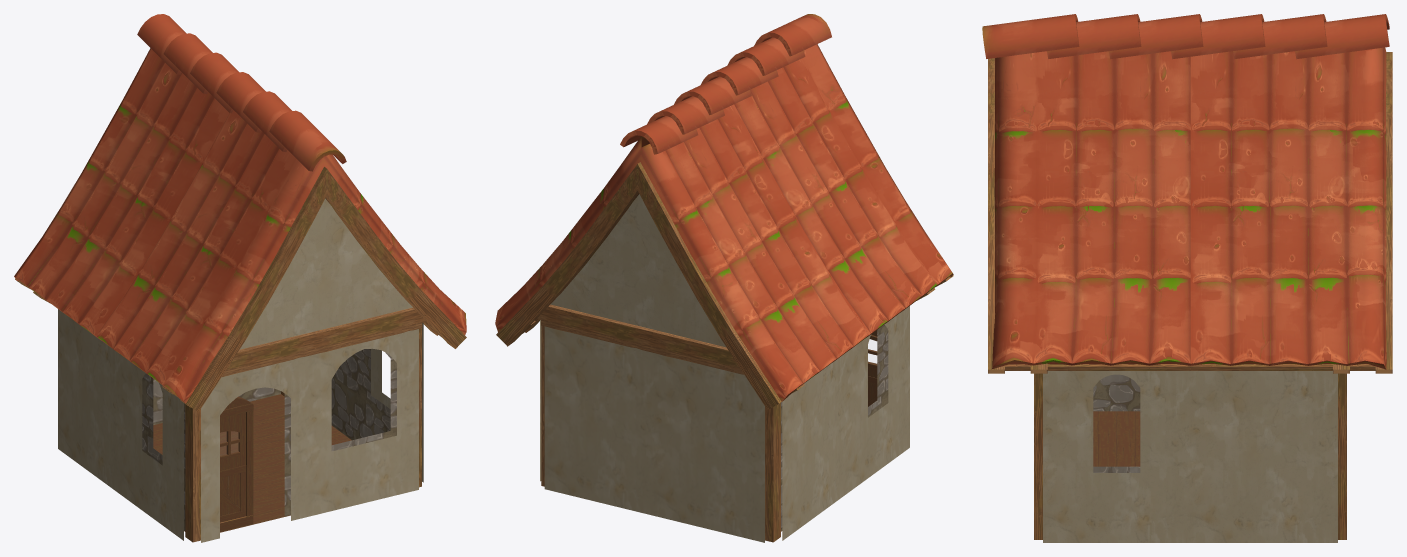
The picture shows the model from 3 angles, left to right: view 1: azimuth 30°, elevation 25°; view 2: azimuth 150°, elevation 25°; view 3: azimuth 270°, elevation 25°; orthographic projection. The views are drawn at different scales.
Visible parts, largest first — view 1: Roof_RoundTiles_4x4, Wall_UnevenBrick_Window_Wide_Round, Wall_UnevenBrick_Door_Round, Floor_WoodDark; view 2: Roof_RoundTiles_4x4, Wall_UnevenBrick_Door_Round, Wall_UnevenBrick_Window_Wide_Round, Floor_WoodDark; view 3: Roof_RoundTiles_4x4, Wall_UnevenBrick_Window_Wide_Round, Wall_UnevenBrick_Door_Round, Floor_WoodDark.
Boxes of the visible parts, <box> form: Roof_RoundTiles_4x4: <box>14,14,466,403</box>; Wall_UnevenBrick_Window_Wide_Round: <box>15,167,466,540</box>; Wall_UnevenBrick_Door_Round: <box>58,198,412,542</box>; Floor_WoodDark: <box>153,307,426,542</box>; Roof_RoundTiles_4x4: <box>495,14,953,401</box>; Wall_UnevenBrick_Door_Round: <box>540,194,845,542</box>; Wall_UnevenBrick_Window_Wide_Round: <box>496,162,953,494</box>; Floor_WoodDark: <box>537,304,782,542</box>; Roof_RoundTiles_4x4: <box>982,14,1389,369</box>; Wall_UnevenBrick_Window_Wide_Round: <box>988,52,1392,542</box>; Wall_UnevenBrick_Door_Round: <box>1190,371,1337,542</box>; Floor_WoodDark: <box>1034,373,1346,539</box>.
Size of the model in its own units: 5.51 by 6.86 by 5.56.
5 materials, 4 textured.
